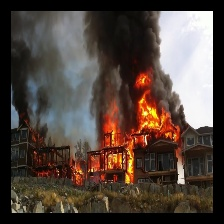fire: (27, 71, 185, 188)
smoke: (9, 12, 172, 70), (89, 12, 174, 100), (14, 10, 67, 122)
